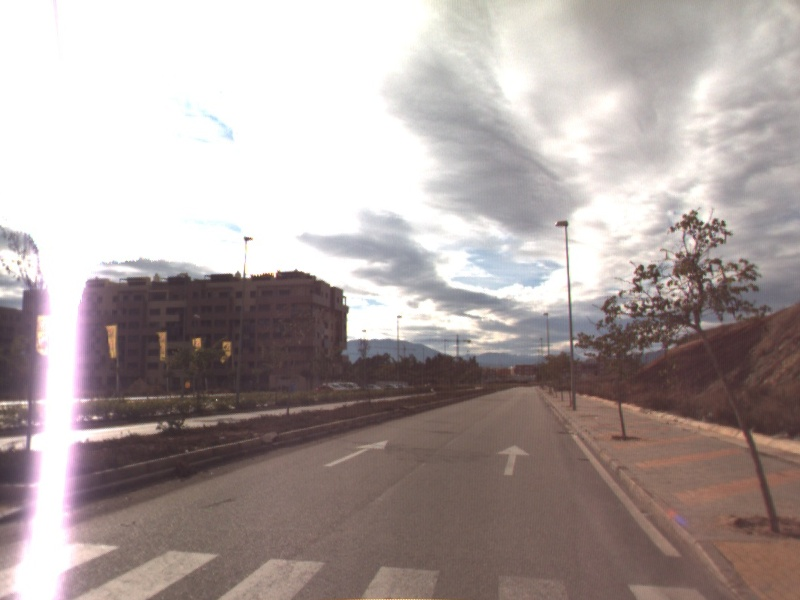STRAIGHT: (322, 438, 390, 469), (494, 442, 532, 477)
